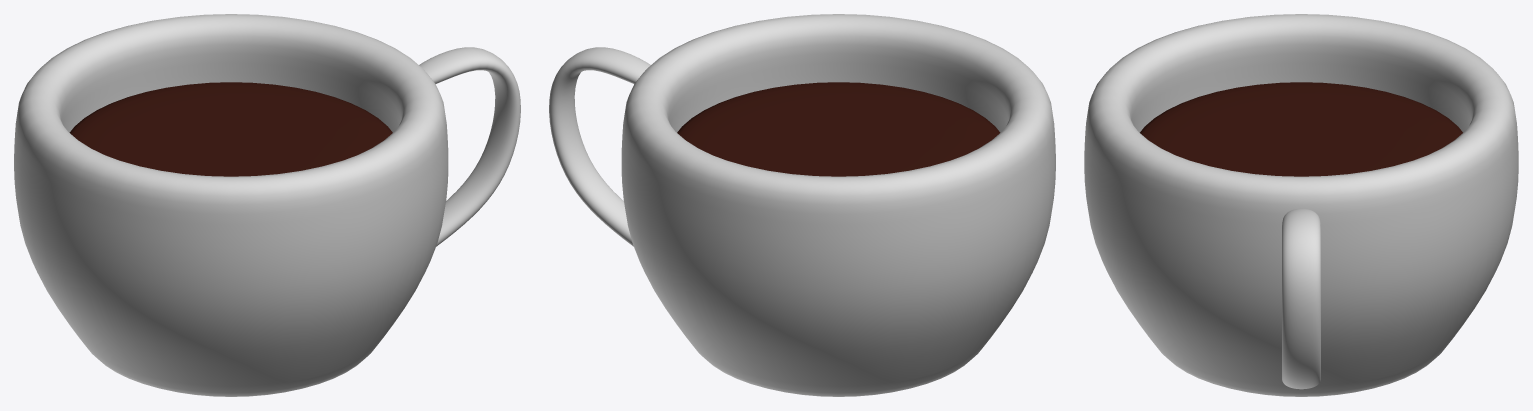
The model's file is Coffee.fbx.
3 renders of one model, left to right at view 1: azimuth 30°, elevation 25°; view 2: azimuth 150°, elevation 25°; view 3: azimuth 270°, elevation 25°, orthographic.
Parts seen in each view (by area): view 1: Coffee, coffee; view 2: Coffee, coffee; view 3: Coffee, coffee.
Part boxes in pixels (x1,y1,x2,y2): Coffee: [14, 14, 520, 396]; coffee: [69, 82, 392, 176]; Coffee: [549, 14, 1055, 396]; coffee: [677, 82, 1000, 176]; Coffee: [1084, 14, 1518, 396]; coffee: [1140, 82, 1462, 176].
Size of the model in its own units: 345 by 171 by 275.
